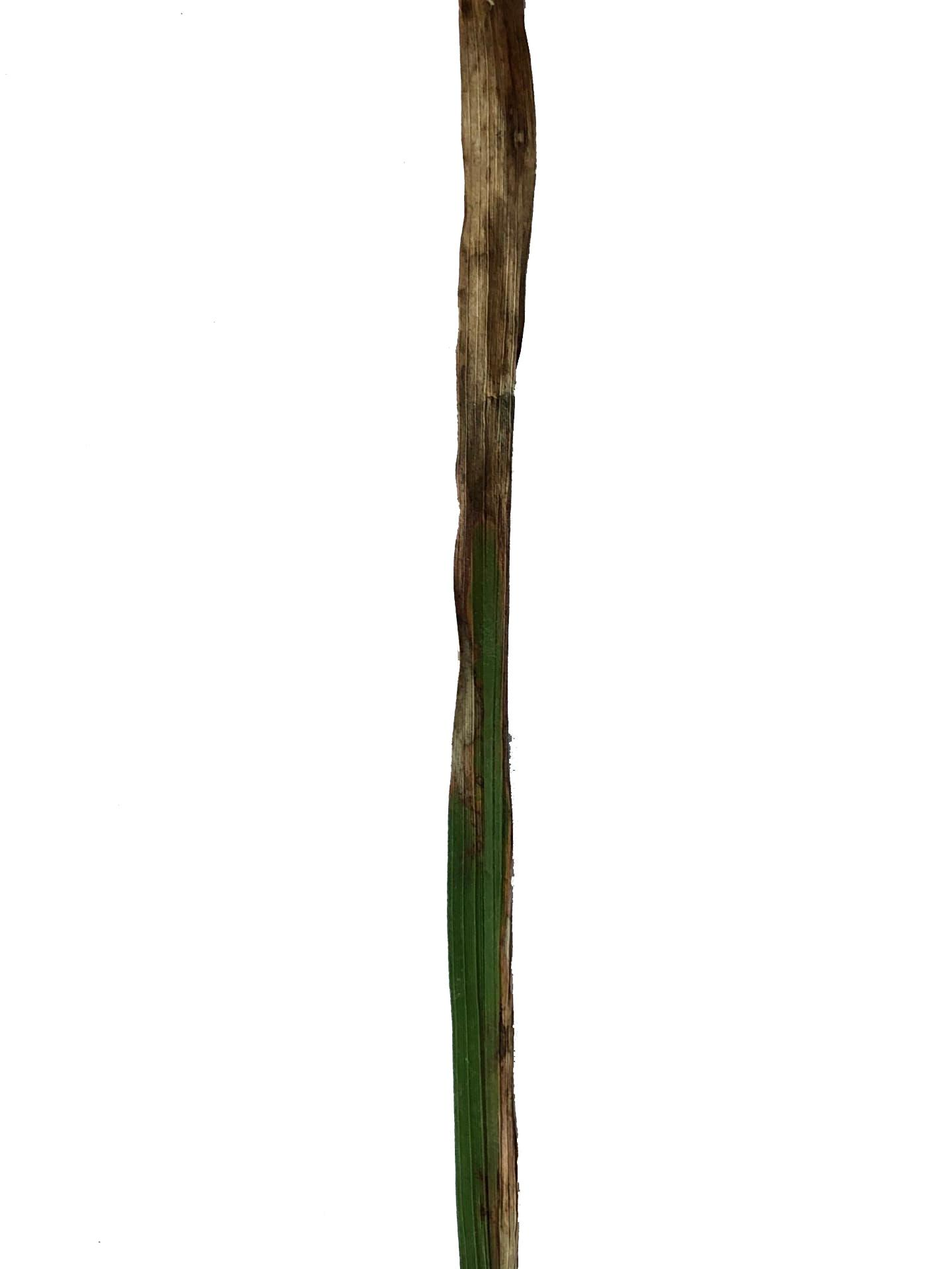Blight: (456, 301, 519, 820), (466, 7, 536, 307), (479, 915, 532, 1269)
